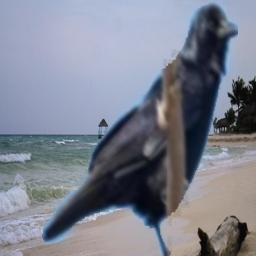Crow: (42, 0, 238, 256)
